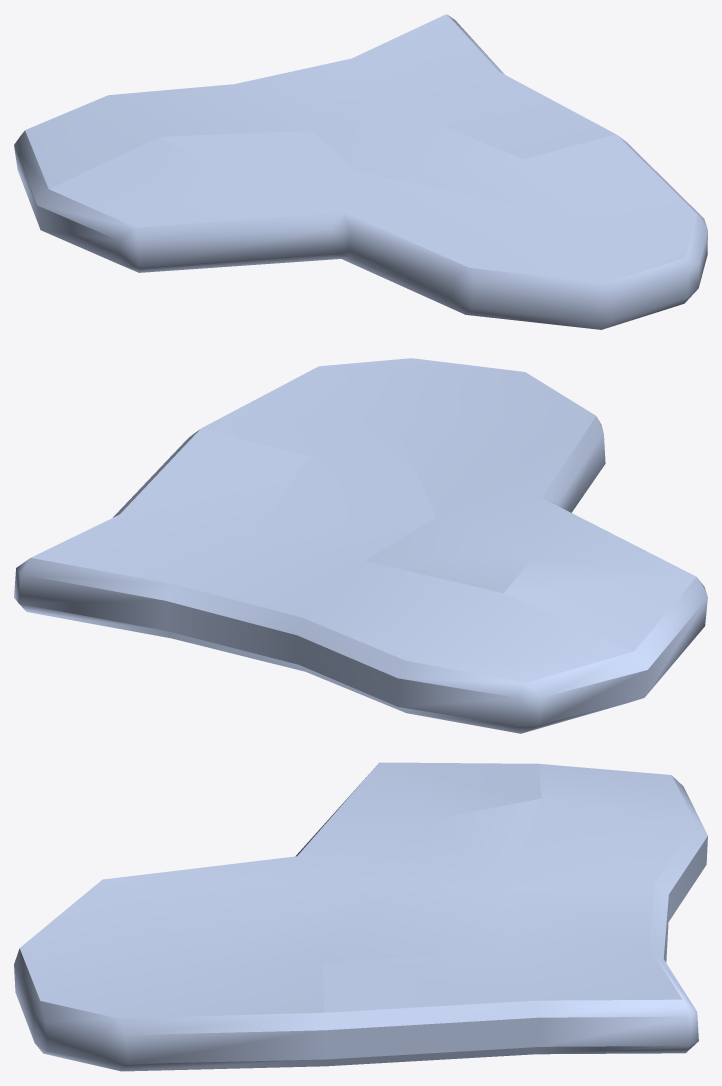
File: floe8.fbx
The picture shows the model from 3 angles, top to bottom: view 1: azimuth 30°, elevation 25°; view 2: azimuth 150°, elevation 25°; view 3: azimuth 270°, elevation 25°; orthographic projection. The views are drawn at different scales.
Parts seen in each view (by area): view 1: Plane.024; view 2: Plane.024; view 3: Plane.024.
Boxes of the visible parts, x1,y1,x2,y2 form: Plane.024: (14, 14, 707, 329); Plane.024: (14, 358, 707, 733); Plane.024: (14, 762, 707, 1071).
Size of the model in its own units: 344 by 52.3 by 371.
